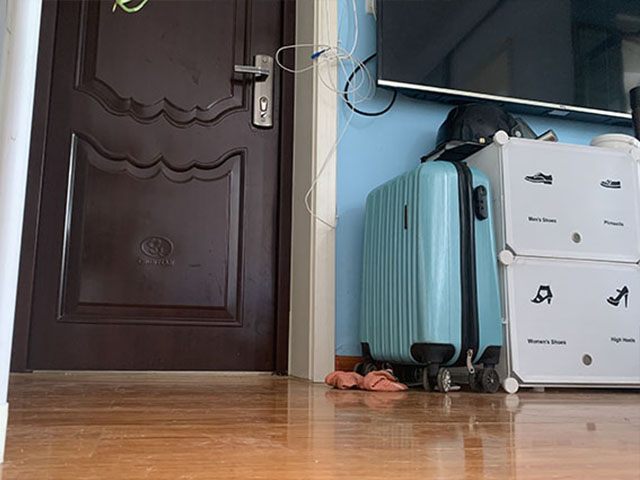cabinet: (459, 128, 640, 394)
socks: (324, 366, 405, 393)
wire: (273, 4, 376, 230)
